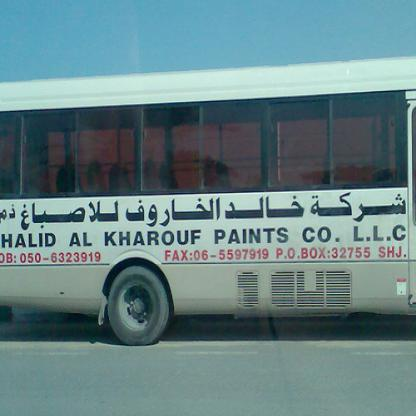bus: (1, 54, 415, 348)
